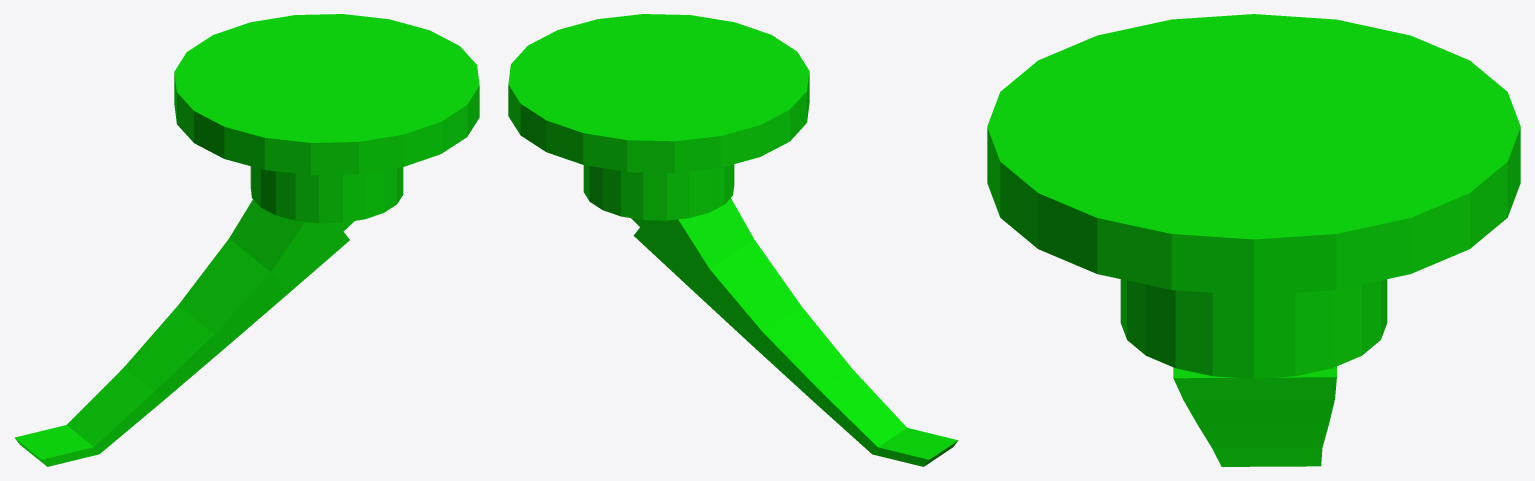
The picture shows the model from 3 angles, left to right: view 1: azimuth 30°, elevation 25°; view 2: azimuth 150°, elevation 25°; view 3: azimuth 270°, elevation 25°; orthographic projection. The views are drawn at different scales.
Parts seen in each view (by area): view 1: pCube7; view 2: pCube7; view 3: pCube7.
Boxes of the visible parts, x1,y1,x2,y2 form: pCube7: (14, 14, 479, 466); pCube7: (508, 14, 958, 466); pCube7: (987, 14, 1520, 466).
Size of the model in its own units: 3.22 by 2.24 by 2.
